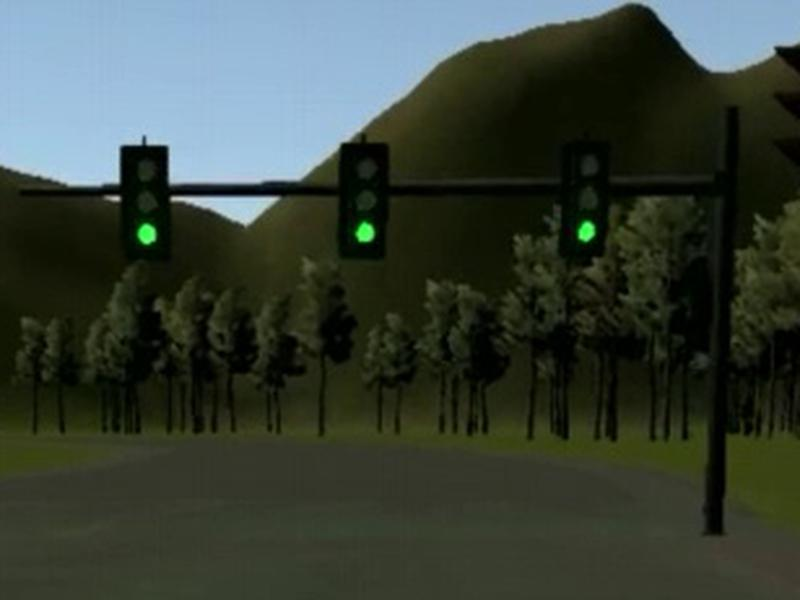Green: (559, 138, 611, 258), (120, 146, 172, 259), (340, 143, 389, 261)
